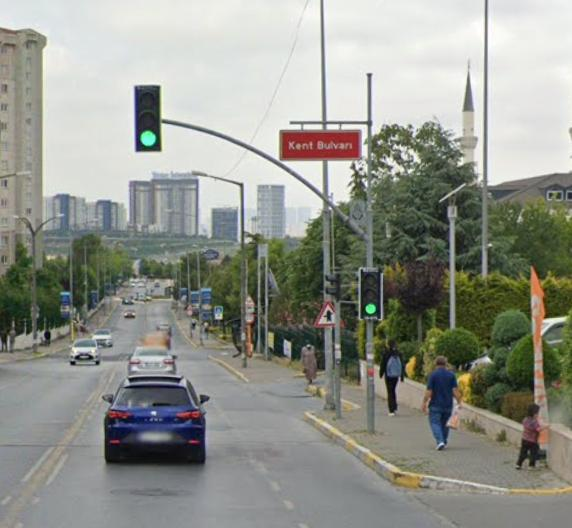greenlight: (136, 85, 159, 149), (361, 268, 380, 316)
